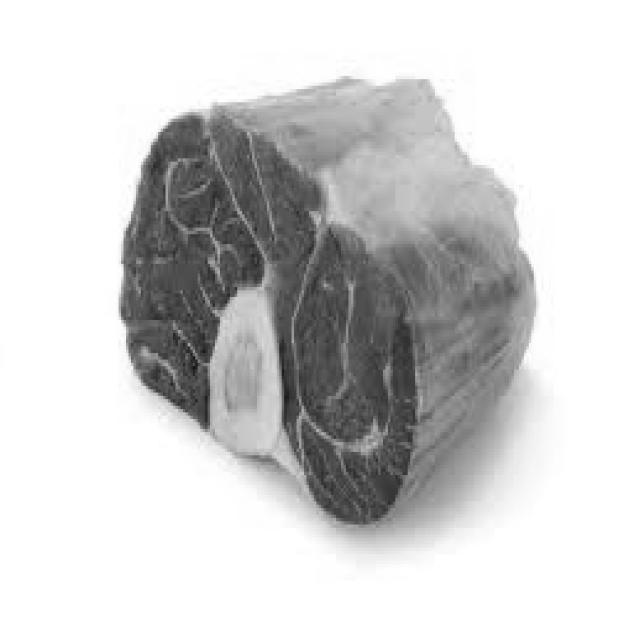ham hock: (111, 86, 536, 518)
